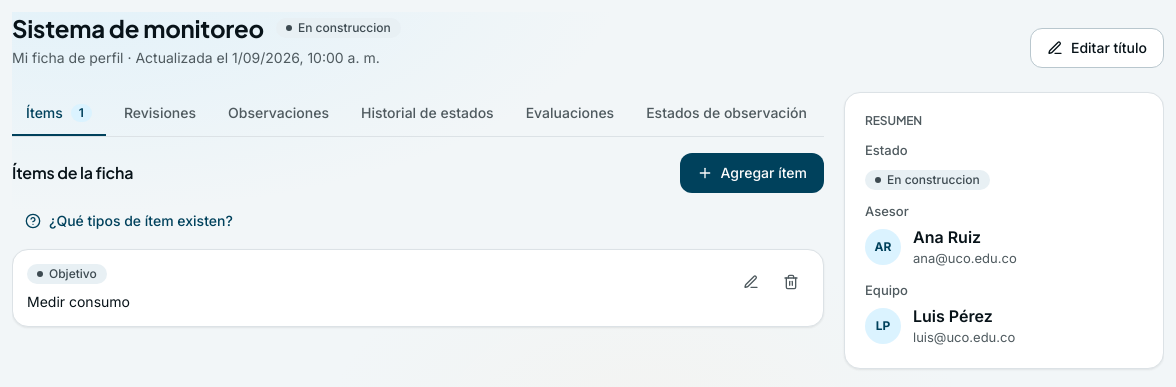
Test case: EstudianteView › la pestaña «Revisiones» monta el panel de revisiones de la ficha
Click the tab "Revisiones" at (160, 114), box x1=110 y1=92 x2=210 y2=136
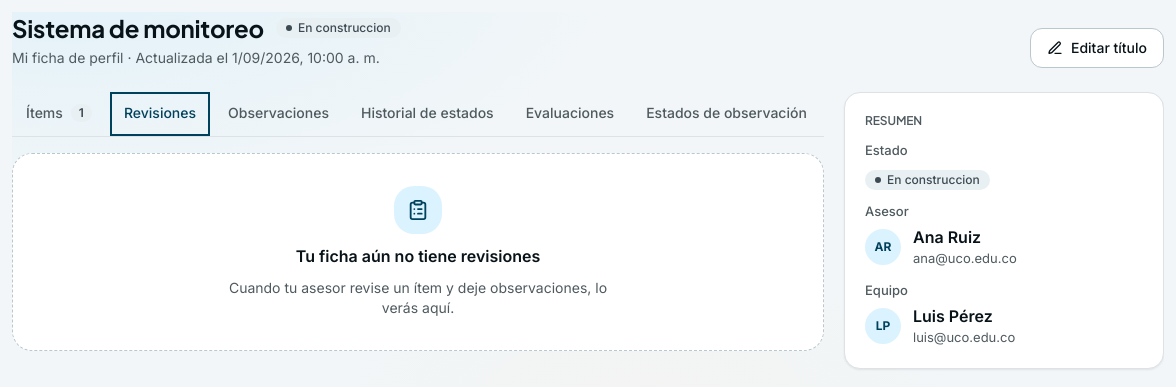
Result: the text "Tu ficha aún no tiene revisiones" is shown at x1=296 y1=244 x2=540 y2=268
